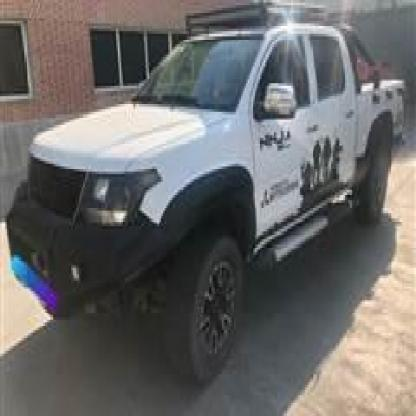Car: (0, 0, 416, 369)
